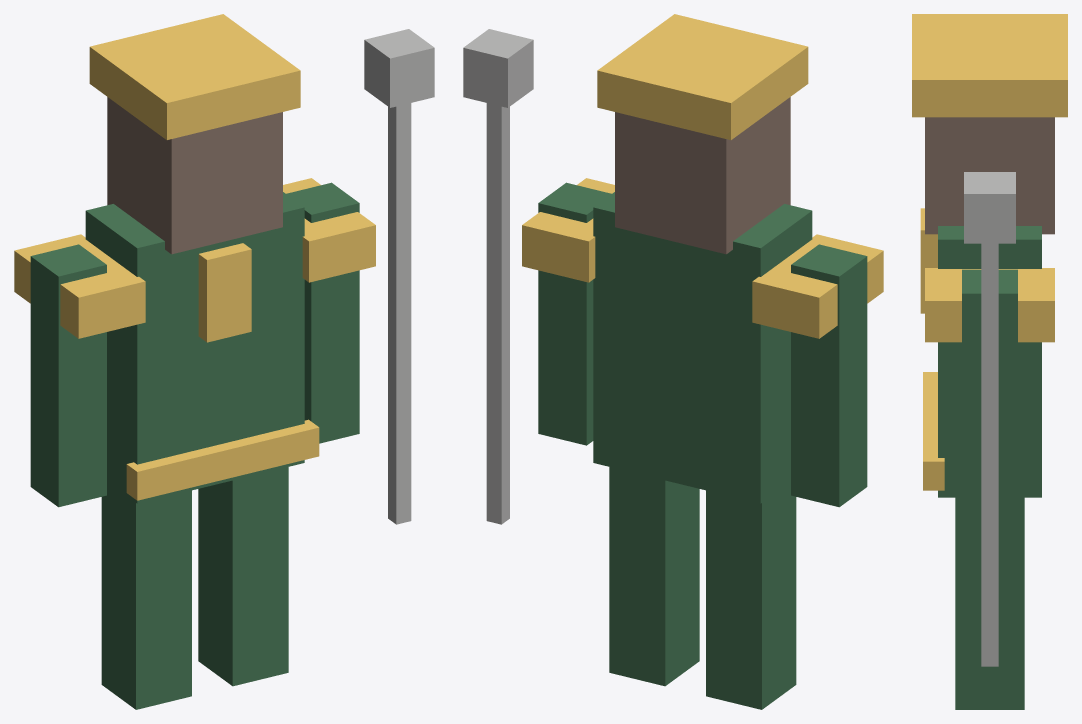
File: 01_kiva_riftwalker_keeper_from_echo.glb
The picture shows the model from 3 angles, left to right: view 1: azimuth 30°, elevation 25°; view 2: azimuth 150°, elevation 25°; view 3: azimuth 270°, elevation 25°; orthographic projection.
Visible parts, largest first — view 1: Kiva Riftwalker, Keeper from Echo; view 2: Kiva Riftwalker, Keeper from Echo; view 3: Kiva Riftwalker, Keeper from Echo.
Boxes of the visible parts, x1,y1,x2,y2 form: Kiva Riftwalker, Keeper from Echo: (14,14,434,709); Kiva Riftwalker, Keeper from Echo: (463,14,883,709); Kiva Riftwalker, Keeper from Echo: (912,14,1067,709).
Size of the model in its own units: 0.9341 by 1.47 by 0.3313.
